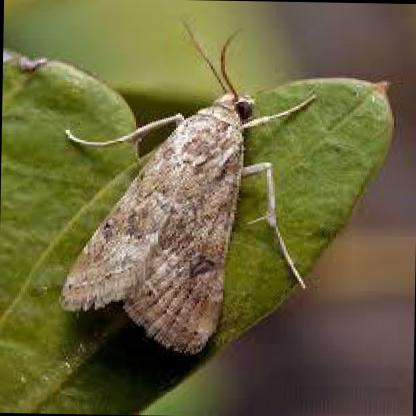Hellula undalis: (48, 15, 320, 358)
